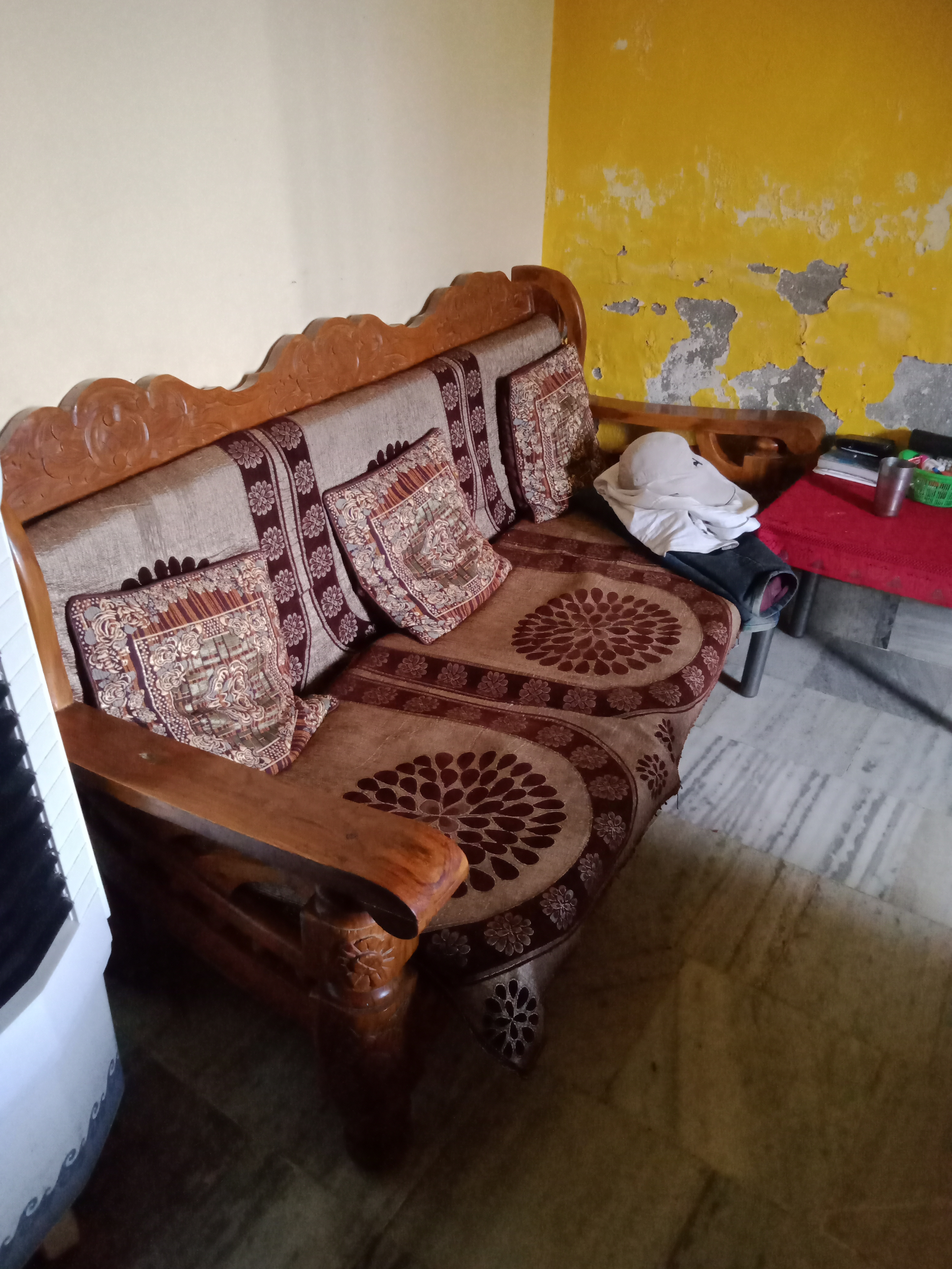sofa: (0, 260, 828, 1174)
table: (742, 447, 952, 698)
